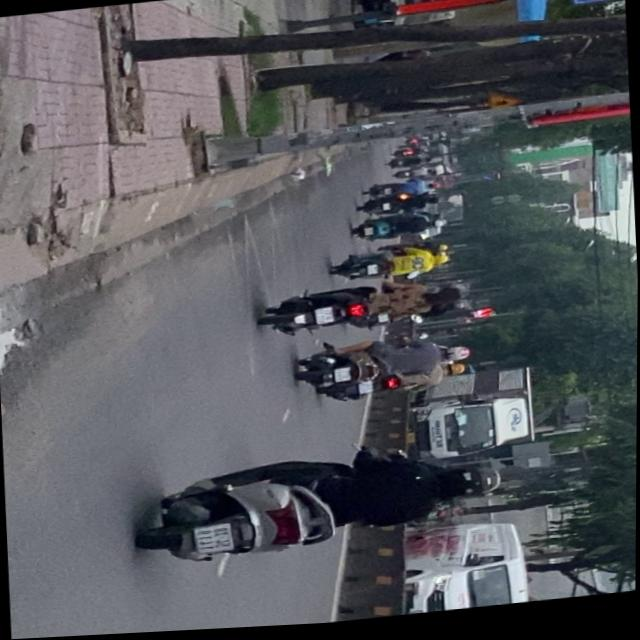helmet: (441, 469, 503, 507)
licenseplate: (133, 440, 509, 574), (258, 278, 471, 344)
motorcyclist: (430, 289, 465, 311)
nohelmet: (198, 526, 235, 556), (316, 310, 335, 327)
